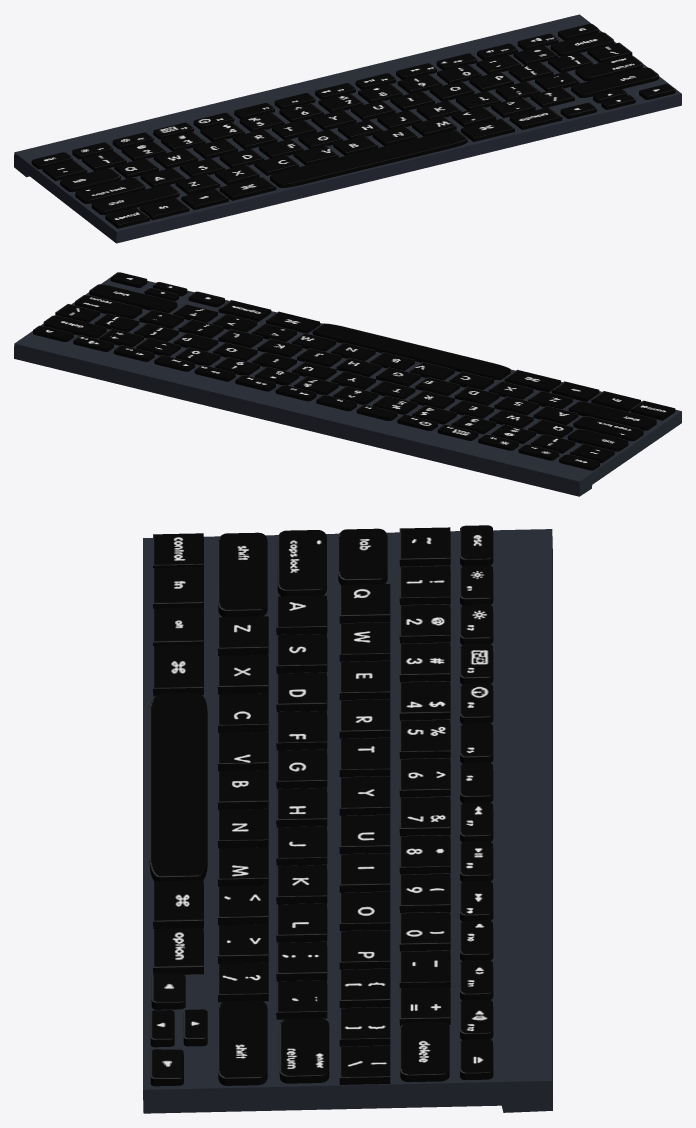
File: PC_Keyboard.fbx
3 renders of one model, top to bottom at view 1: azimuth 30°, elevation 25°; view 2: azimuth 150°, elevation 25°; view 3: azimuth 270°, elevation 25°, orthographic. The views are drawn at different scales.
Visible parts, largest first — view 1: Keyboard; view 2: Keyboard; view 3: Keyboard.
Boxes of the visible parts, bbox=[...] form: Keyboard: bbox=[14, 14, 681, 243]; Keyboard: bbox=[14, 272, 681, 496]; Keyboard: bbox=[143, 525, 552, 1113].
Size of the model in its own units: 38.26 by 1.23 by 12.02.
